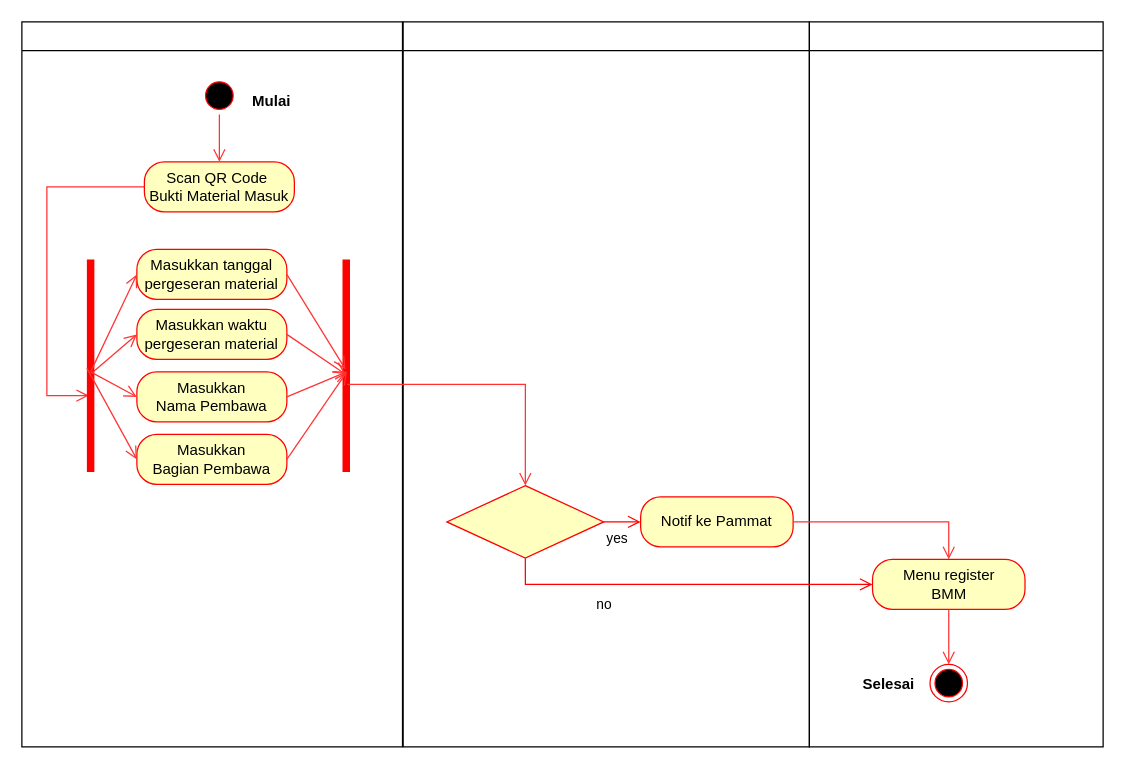
This 1125x769 diagram has some shape labels left out. Here are the shapes that lost their labels. From the top down, the box of each, then its label:
(21, 21, 402, 747): Pamfik
(402, 21, 809, 747): Control pamfik
(808, 21, 1103, 747): Aplikasi ATM
(446, 484, 604, 558): Send Approval
